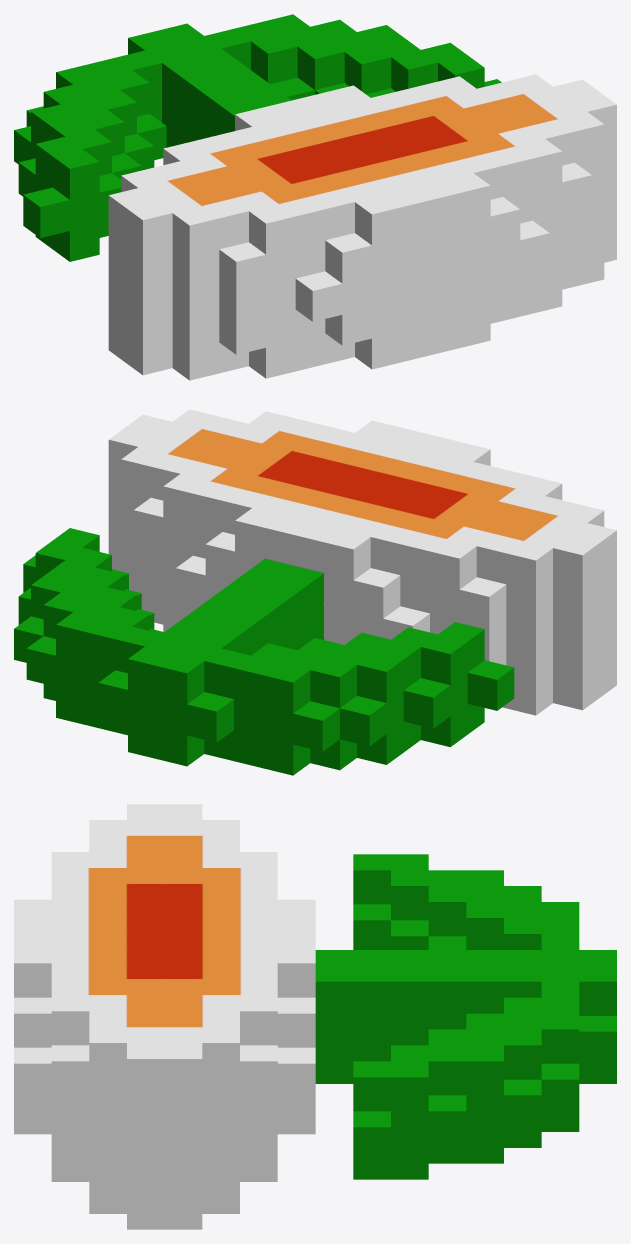
File: fire_flower.obj
3 views of the same model, one above another, from view 1: azimuth 30°, elevation 25°; view 2: azimuth 150°, elevation 25°; view 3: azimuth 270°, elevation 25° (orthographic). The views are drawn at different scales.
Parts seen in each view (by area): view 1: fire_flower_1; view 2: fire_flower_1; view 3: fire_flower_1.
Part boxes in pixels (x1,y1,x2,y2): fire_flower_1: [14, 14, 616, 380]; fire_flower_1: [14, 409, 616, 775]; fire_flower_1: [14, 804, 616, 1229].
Size of the model in its own units: 160 by 50 by 160.
Materials: 4 (4 with a texture image).
